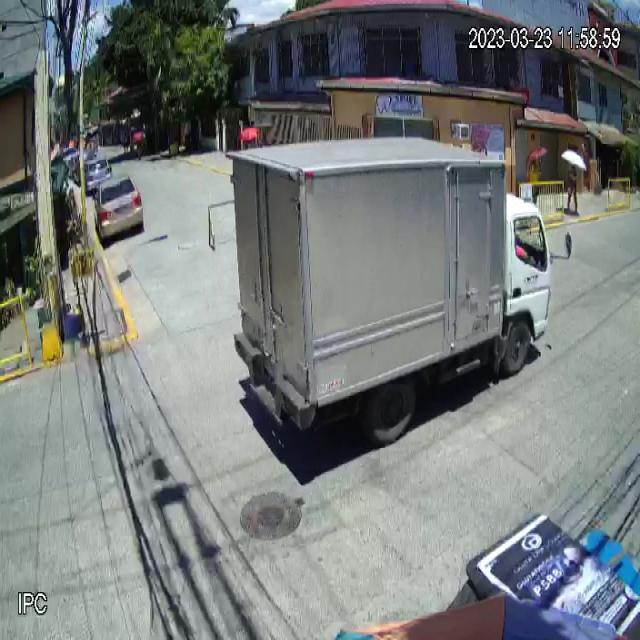Truck: (226, 138, 552, 446)
